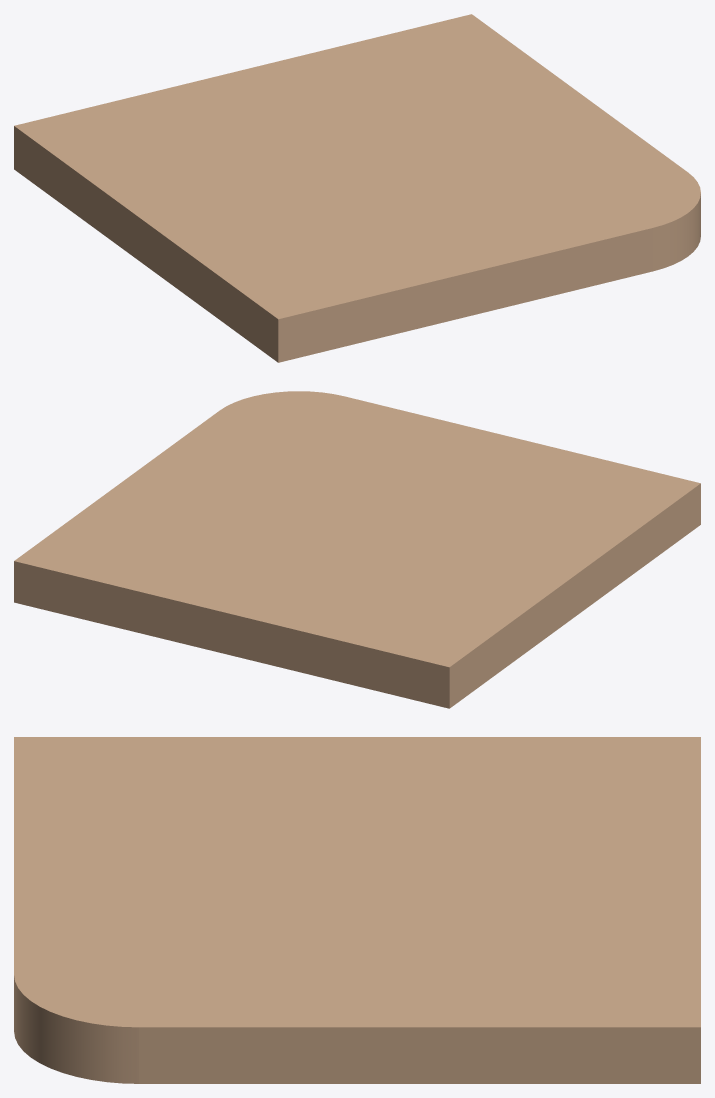
Rendered from floorCornerRound.glb.
3 views of the same model, one above another, from view 1: azimuth 30°, elevation 25°; view 2: azimuth 150°, elevation 25°; view 3: azimuth 270°, elevation 25° (orthographic). The views are drawn at different scales.
Parts seen in each view (by area): view 1: floorCornerRound; view 2: floorCornerRound; view 3: floorCornerRound.
Part boxes in pixels (left/top/right/bottom): floorCornerRound: left=14, top=14, right=700, bottom=362; floorCornerRound: left=14, top=391, right=700, bottom=708; floorCornerRound: left=14, top=737, right=700, bottom=1083.
Bounding box in the file's own units: 0.55 × 0.05 × 0.55.
